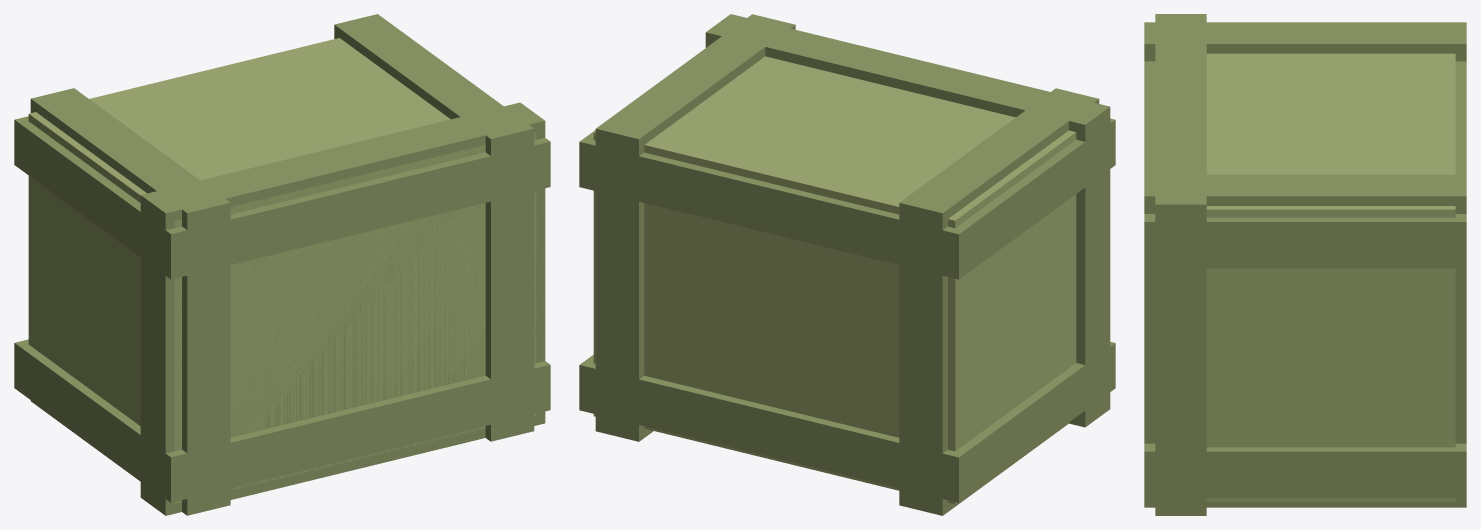
File: 22_crate_small.glb
3 views of the same model, side by side, from view 1: azimuth 30°, elevation 25°; view 2: azimuth 150°, elevation 25°; view 3: azimuth 270°, elevation 25° (orthographic). The views are drawn at different scales.
Visible parts, largest first — view 1: part_1, part_6, part_4, part_5, part_2, part_3; view 2: part_1, part_5, part_4, part_3, part_2, part_6; view 3: part_1, part_6, part_5, part_4, part_3, part_2.
Boxes of the visible parts, box(x1,y1,x2,y2) form: part_1: box(28, 38, 536, 504); part_6: box(140, 102, 545, 515); part_4: box(14, 339, 550, 502); part_5: box(14, 116, 550, 279); part_2: box(30, 88, 230, 515); part_3: box(334, 14, 534, 441); part_1: box(593, 56, 1076, 504); part_5: box(579, 118, 1115, 279); part_4: box(579, 342, 1115, 502); part_3: box(595, 14, 795, 441); part_2: box(899, 88, 1099, 515); part_6: box(705, 14, 1110, 427); part_1: box(1206, 53, 1455, 501); part_6: box(1155, 14, 1206, 515); part_5: box(1144, 61, 1466, 268); part_4: box(1144, 443, 1466, 498); part_3: box(1144, 174, 1466, 507); part_2: box(1144, 22, 1466, 61).
Size of the model in its own units: 1.05 by 0.85 by 0.75.
